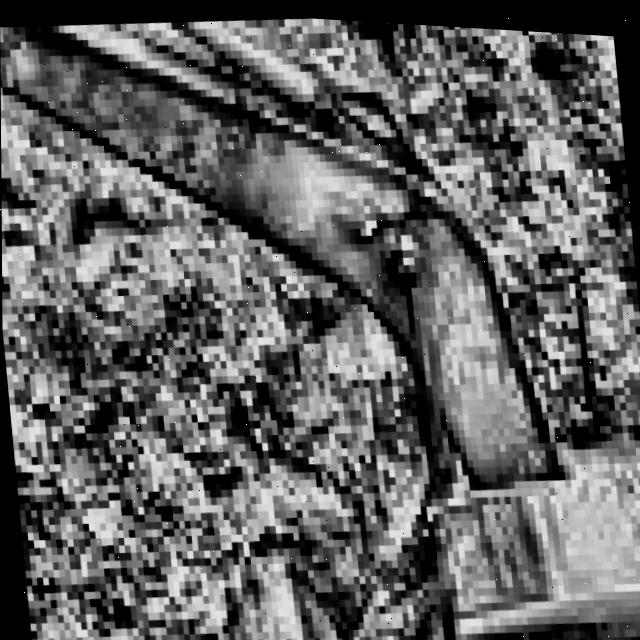excavator: (225, 388, 640, 640)
